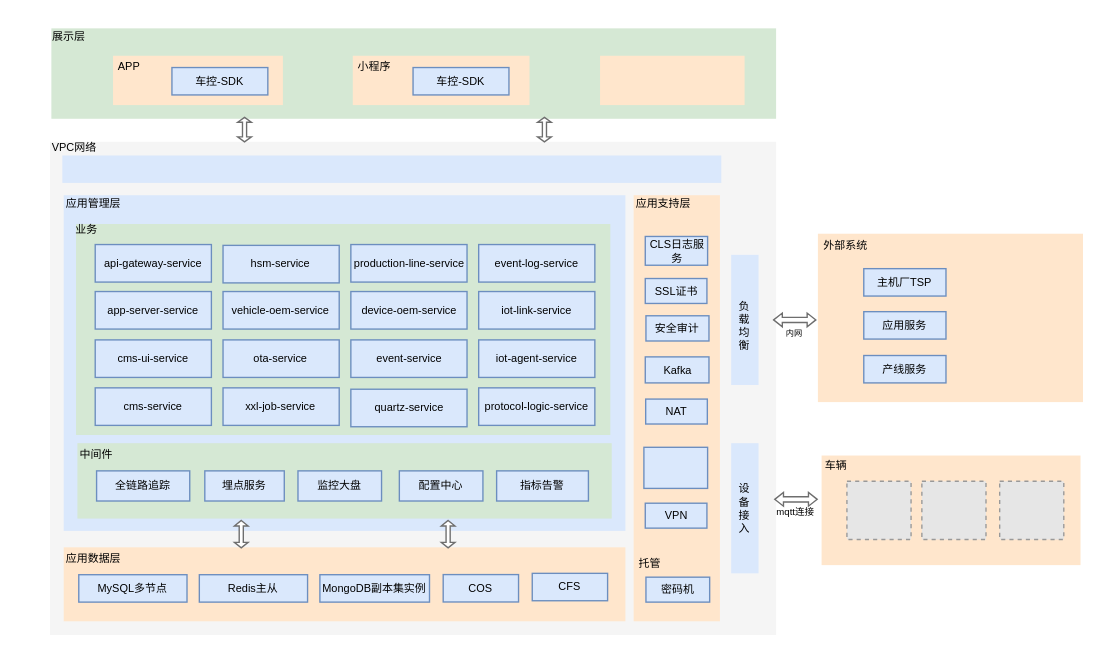
Image size: 1106x659. Some labels were removed from this diagram. Grey dashed boxes stand in for pictures. Each missing label, with the centre of its shape:
"物联网开发平台" belongs at [675,467].
"负载均衡" belongs at [391,168].
"运营后台" belongs at [671,79].
